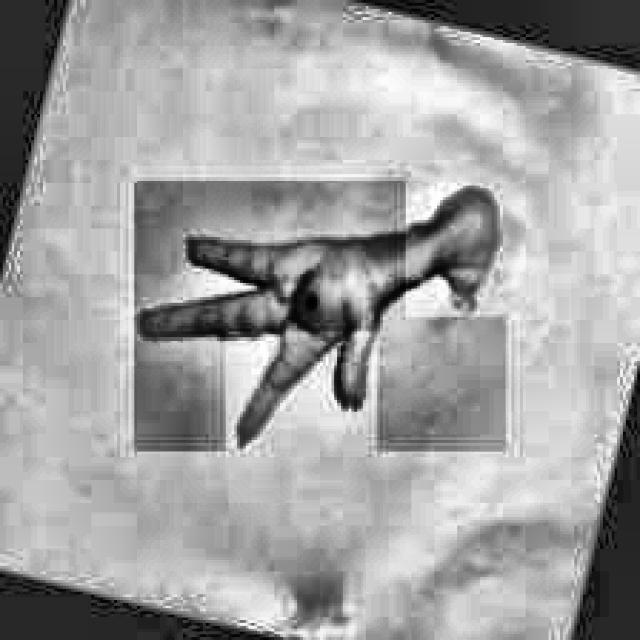Bumble foot: (134, 180, 503, 449)
